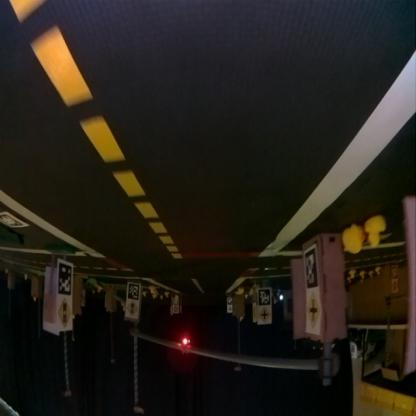Duckie: (366, 217, 385, 247), (342, 226, 362, 254), (149, 286, 155, 294)
Intersection sign: (306, 290, 320, 332), (258, 308, 270, 324)
QR code: (57, 262, 72, 296), (304, 249, 316, 289), (258, 289, 270, 307), (127, 283, 139, 301)
Signal sign: (58, 298, 70, 329), (126, 301, 138, 318)
Traffic light: (181, 336, 189, 352)
